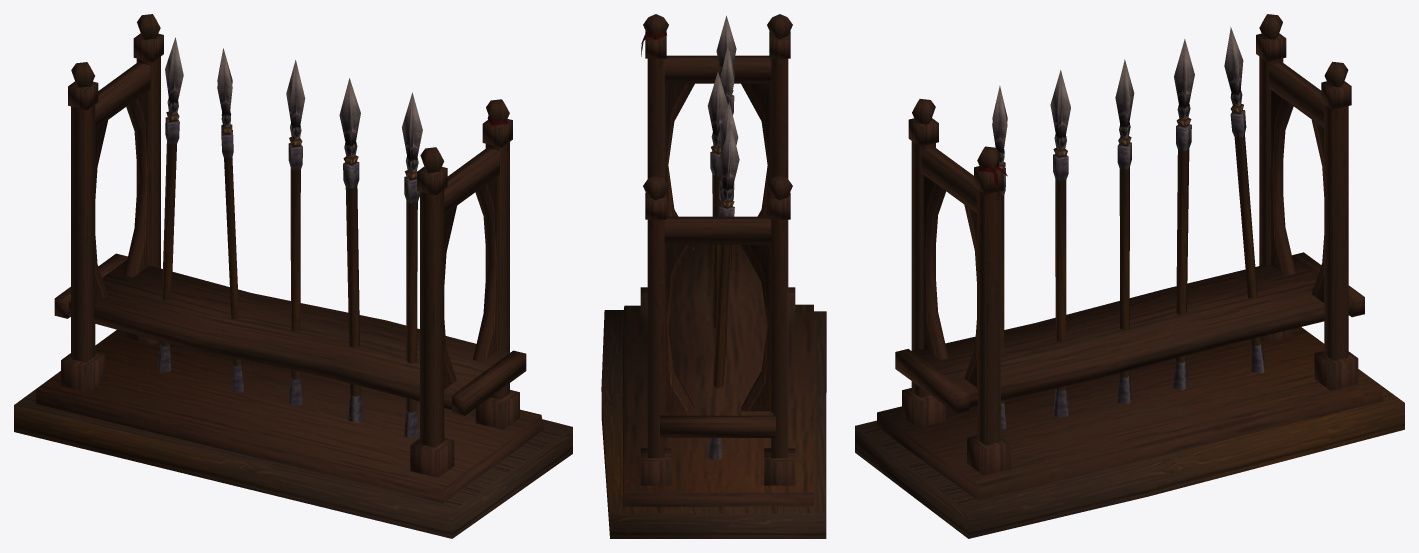
Rendered from daliang_field_a_s05b.fbx.
The picture shows the model from 3 angles, left to right: view 1: azimuth 30°, elevation 25°; view 2: azimuth 150°, elevation 25°; view 3: azimuth 270°, elevation 25°; orthographic projection. The views are drawn at different scales.
Parts seen in each view (by area): view 1: daliang_field_a_s05b; view 2: daliang_field_a_s05b; view 3: daliang_field_a_s05b.
Part boxes in pixels (<box>): daliang_field_a_s05b: <box>14,14,572,538</box>; daliang_field_a_s05b: <box>601,14,826,538</box>; daliang_field_a_s05b: <box>855,14,1404,538</box>.
Bounding box in the file's own units: 251 × 233 × 303.
